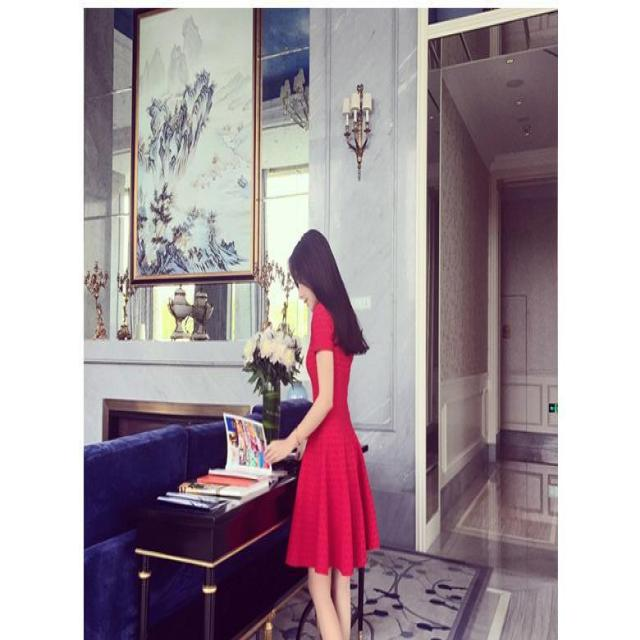short sleeve dress: (287, 302, 380, 568)
